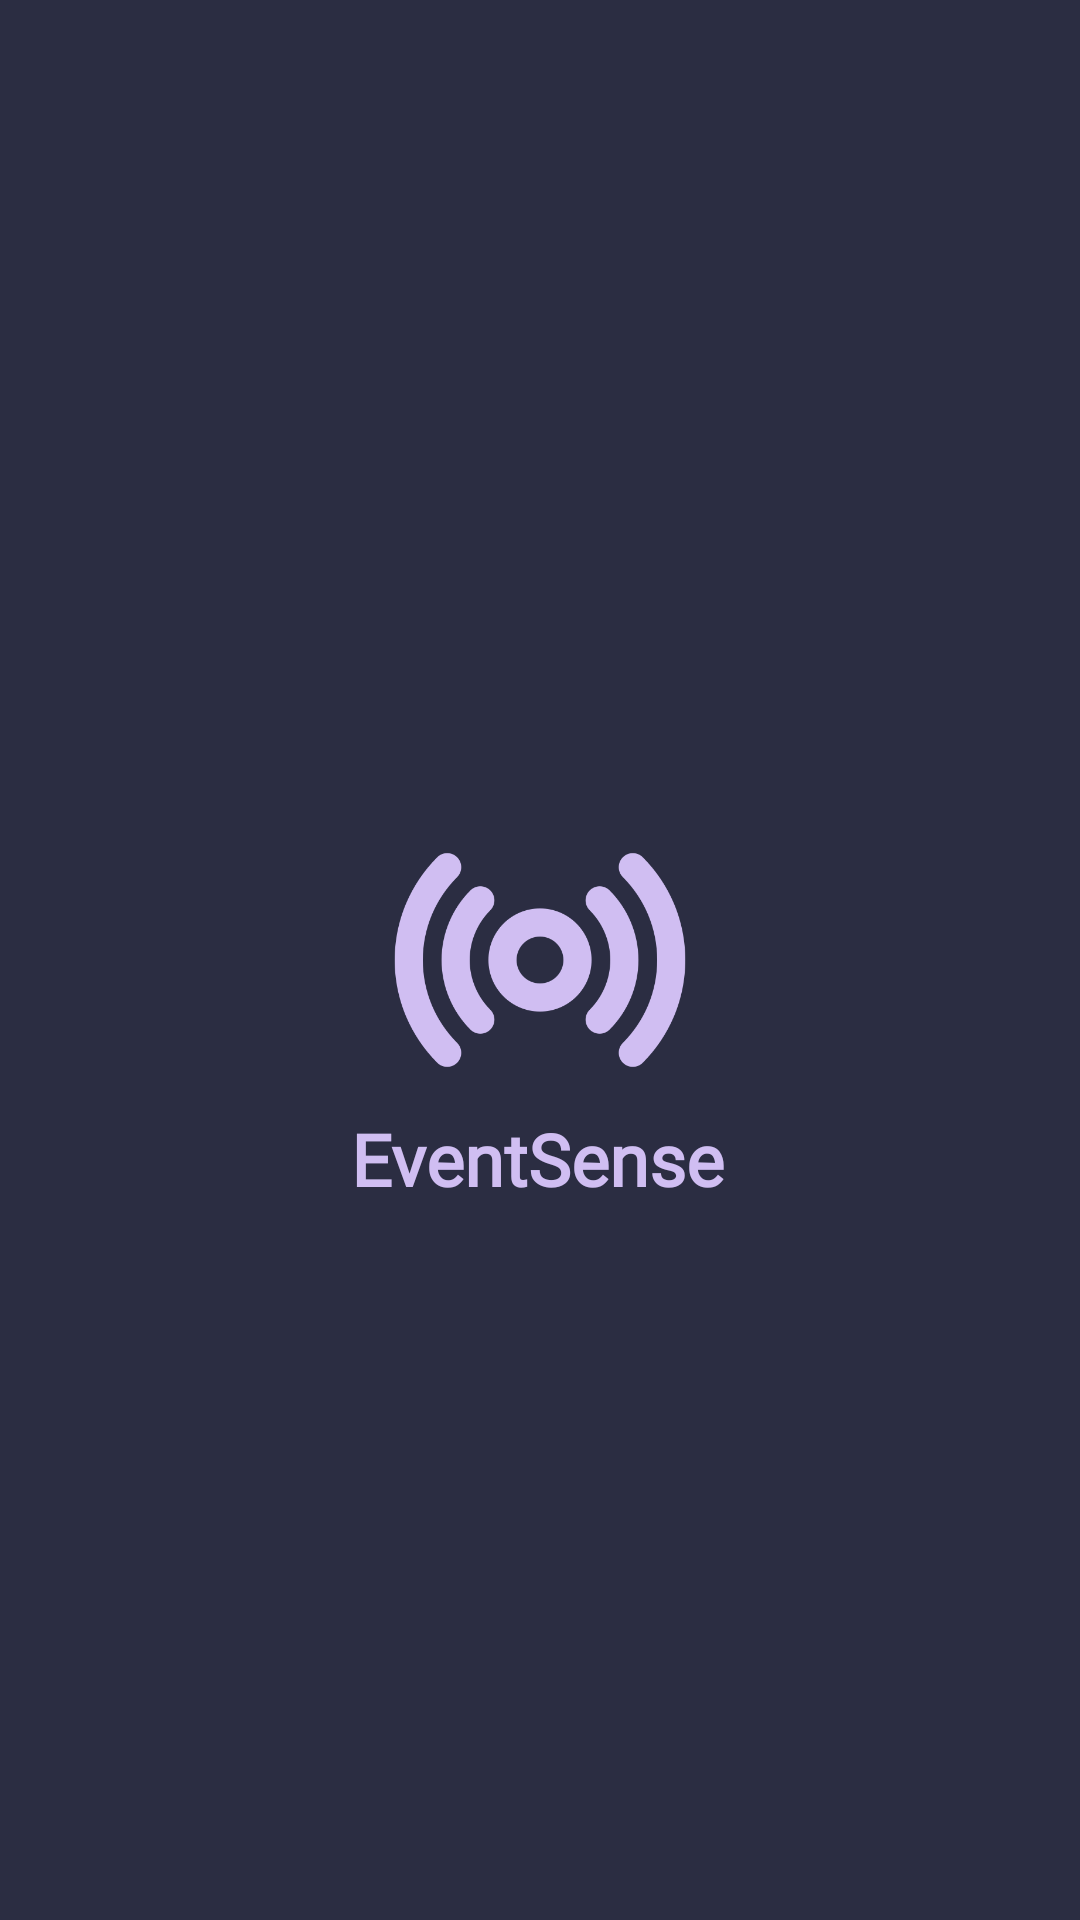

Icons on this 1080 x 1920 Android screen, each with the point to tap as (x,y):
broad: (540,960)
